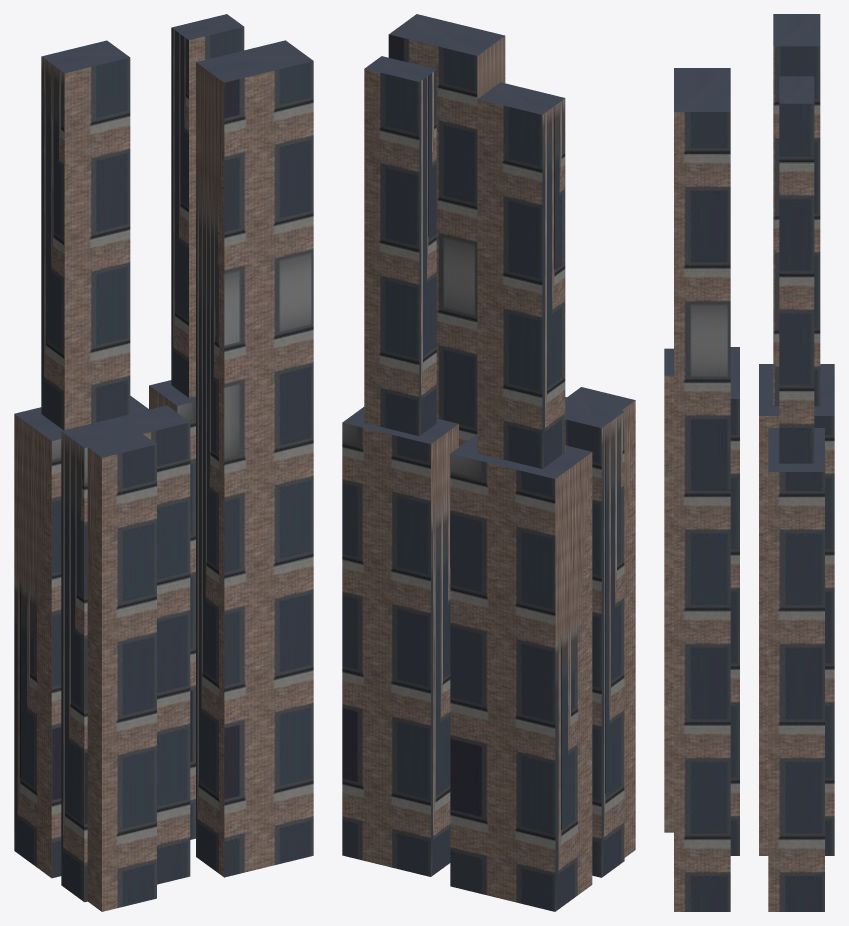
The model's file is block_31.obj.
The picture shows the model from 3 angles, left to right: view 1: azimuth 30°, elevation 25°; view 2: azimuth 150°, elevation 25°; view 3: azimuth 270°, elevation 25°; orthographic projection.
Parts seen in each view (by area): view 1: b3, b1, b0, b2; view 2: b0, b2, b1, b3; view 3: b3, b2, b0, b1.
Part boxes in pixels (<box>): b3: <box>196,40,313,877</box>; b1: <box>61,405,190,911</box>; b0: <box>14,40,148,878</box>; b2: <box>149,14,244,839</box>; b0: <box>450,82,592,911</box>; b2: <box>342,56,458,876</box>; b1: <box>565,387,635,877</box>; b3: <box>388,14,505,446</box>; b3: <box>674,68,730,911</box>; b2: <box>768,76,824,911</box>; b0: <box>759,14,834,855</box>; b1: <box>664,347,739,855</box>.
Size of the model in its own units: 4.05 by 14 by 2.7.
